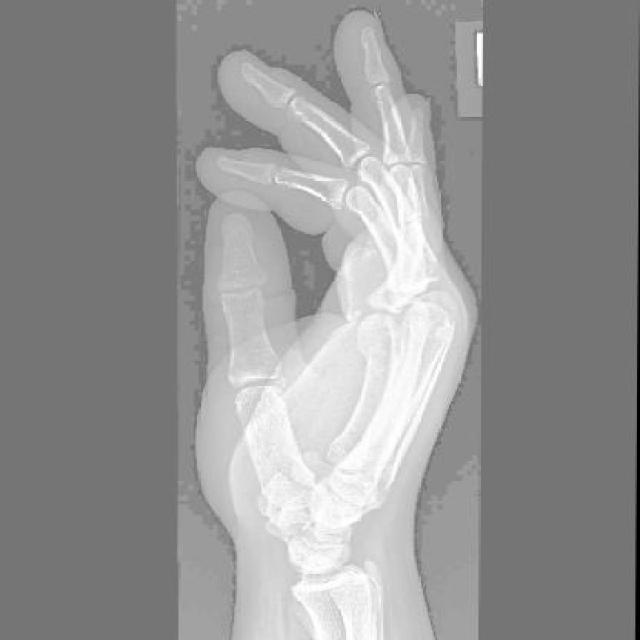Fracture: (361, 332, 404, 371)
